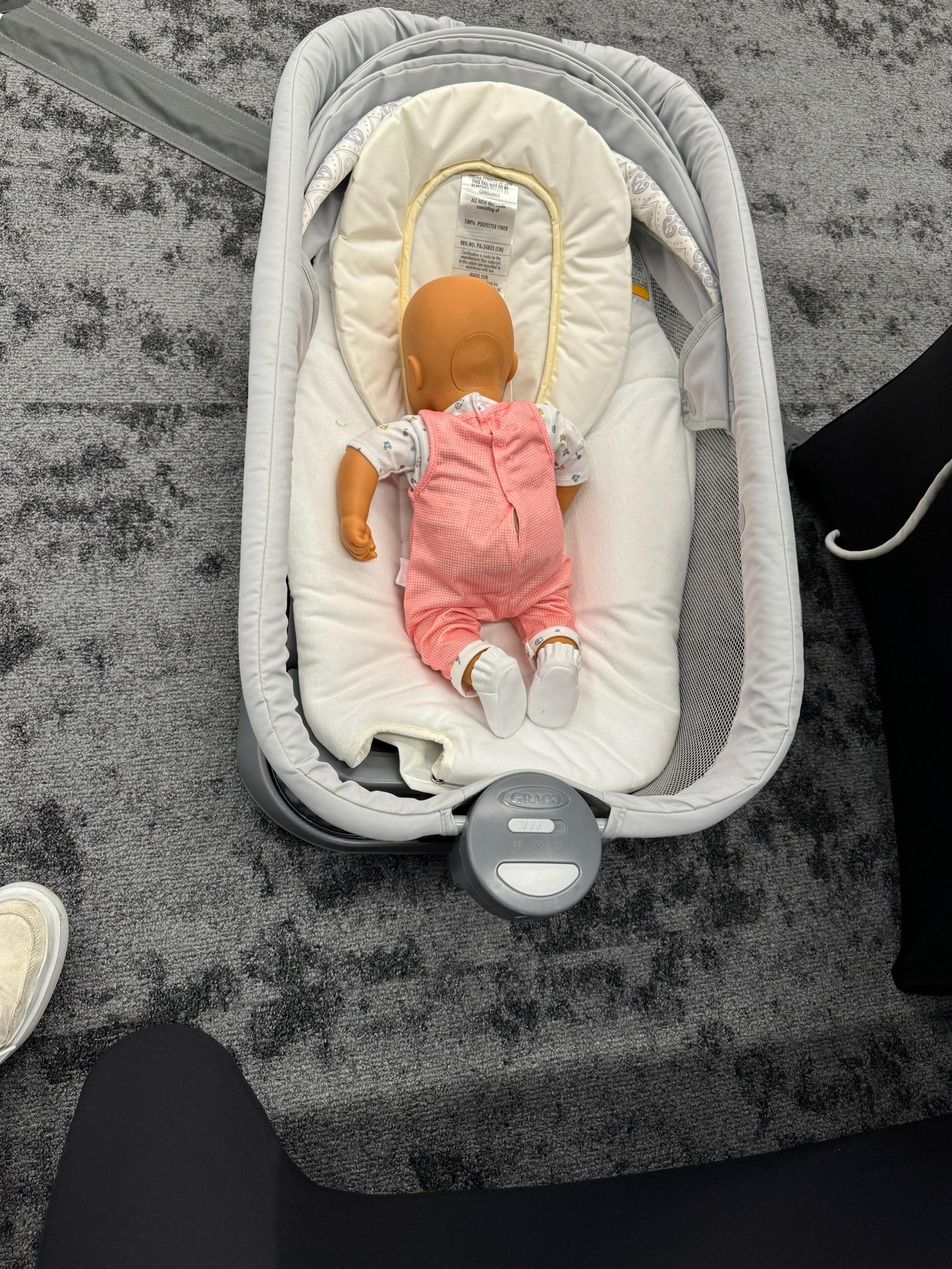baby: (338, 271, 597, 739)
